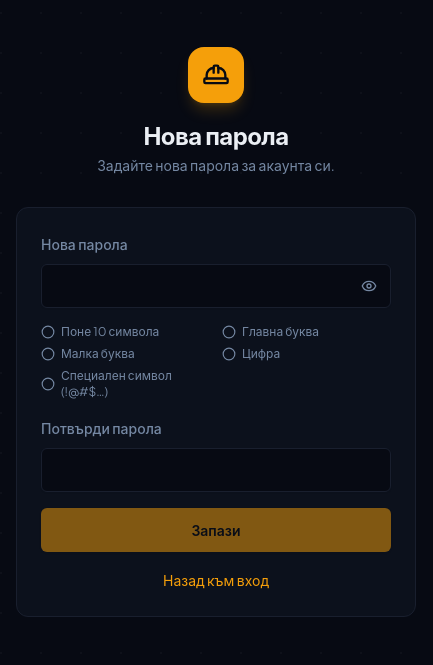
Test: a server-side policy message is shown as it came
The width and height of the screenshot is (433, 665).
In the password field with test id "reset-new-password": (216, 286) [41,264,391,308], type "Brand-New-Pass-77!"
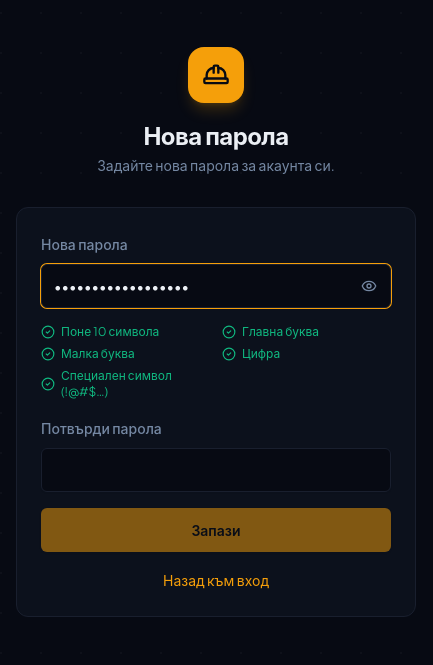
In the password field with test id "reset-confirm-password": (216, 470) [41,448,391,492], type "Brand-New-Pass-77!"
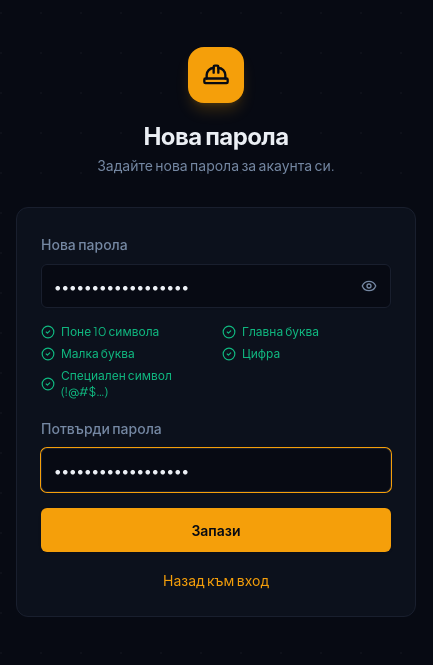
Click the button with test id "reset-submit-button": click(216, 530) [41,508,391,552]
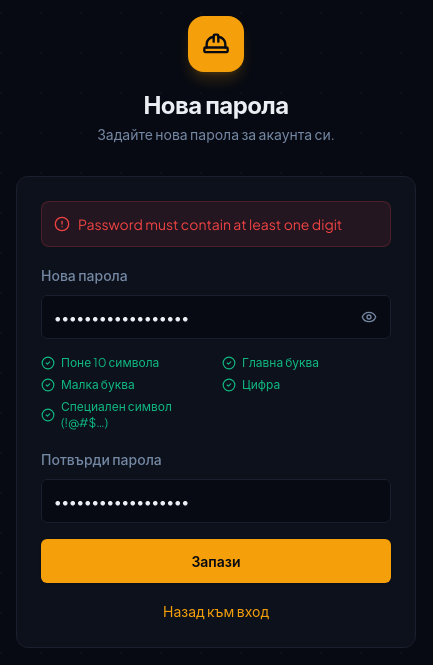
Expected: the element with test id "reset-error" shows "at least one digit", [78,215,342,233]
